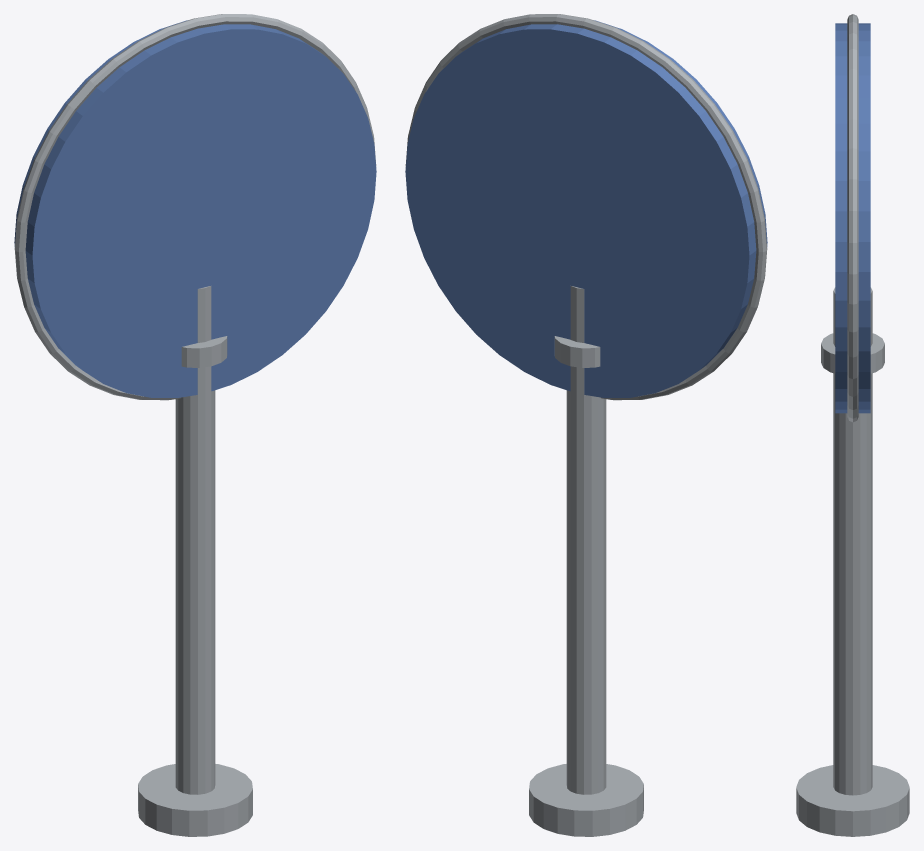
File: state-fair-pin-hand-wash.glb
3 views of the same model, side by side, from view 1: azimuth 30°, elevation 25°; view 2: azimuth 150°, elevation 25°; view 3: azimuth 270°, elevation 25° (orthographic).
Visible parts, largest first — view 1: SFPIN_SignDisc, SFPIN_Post, SFPIN_Rim, SFPIN_Base, SFPIN_Collar; view 2: SFPIN_SignDisc, SFPIN_Post, SFPIN_Rim, SFPIN_Base, SFPIN_Collar; view 3: SFPIN_Post, SFPIN_SignDisc, SFPIN_Base, SFPIN_Rim, SFPIN_Collar.
Boxes of the visible parts, x1,y1,x2,y2 form: SFPIN_SignDisc: [14, 20, 376, 397]; SFPIN_Post: [175, 286, 215, 794]; SFPIN_Rim: [14, 14, 376, 400]; SFPIN_Base: [138, 764, 252, 836]; SFPIN_Collar: [181, 336, 227, 367]; SFPIN_SignDisc: [405, 20, 767, 397]; SFPIN_Post: [566, 286, 606, 794]; SFPIN_Rim: [405, 14, 767, 400]; SFPIN_Base: [529, 764, 643, 836]; SFPIN_Collar: [554, 336, 600, 367]; SFPIN_Post: [833, 287, 872, 795]; SFPIN_SignDisc: [835, 23, 870, 413]; SFPIN_Base: [796, 765, 909, 836]; SFPIN_Rim: [847, 14, 858, 422]; SFPIN_Collar: [821, 333, 884, 373].
Size of the model in its own units: 1.15 by 2.43 by 0.32.
